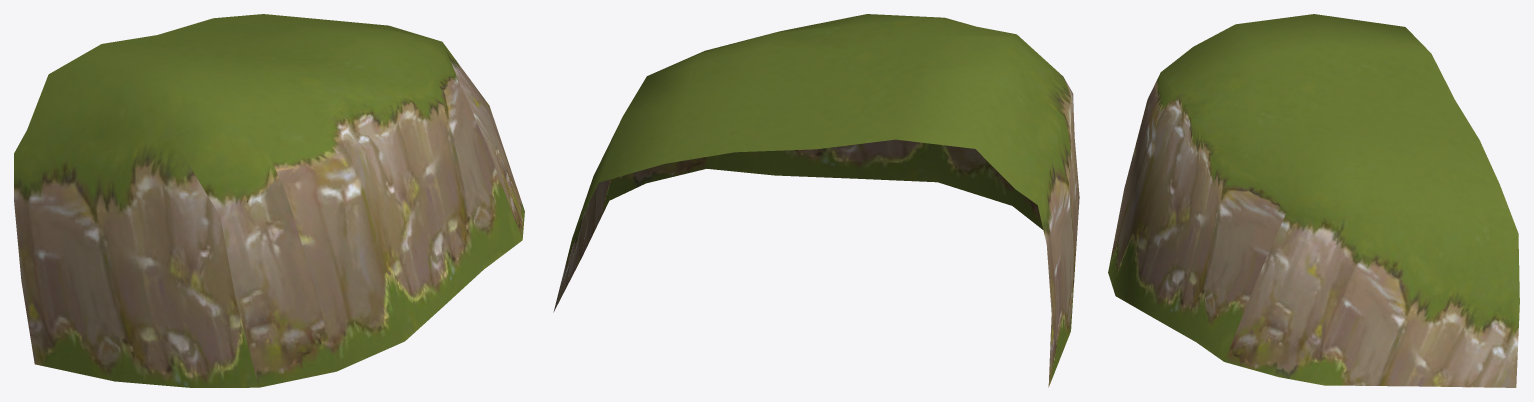
The model's file is gaoyuan_bianyuan_03 (10).fbx.
The picture shows the model from 3 angles, left to right: view 1: azimuth 30°, elevation 25°; view 2: azimuth 150°, elevation 25°; view 3: azimuth 270°, elevation 25°; orthographic projection. The views are drawn at different scales.
Parts seen in each view (by area): view 1: gaoyuan_bianyuan_03 (10); view 2: gaoyuan_bianyuan_03 (10); view 3: gaoyuan_bianyuan_03 (10).
Boxes of the visible parts, bbox=[...] form: gaoyuan_bianyuan_03 (10): bbox=[14, 14, 524, 387]; gaoyuan_bianyuan_03 (10): bbox=[553, 14, 1079, 387]; gaoyuan_bianyuan_03 (10): bbox=[1108, 14, 1519, 387].
Size of the model in its own units: 17.44 by 10.11 by 14.4.
